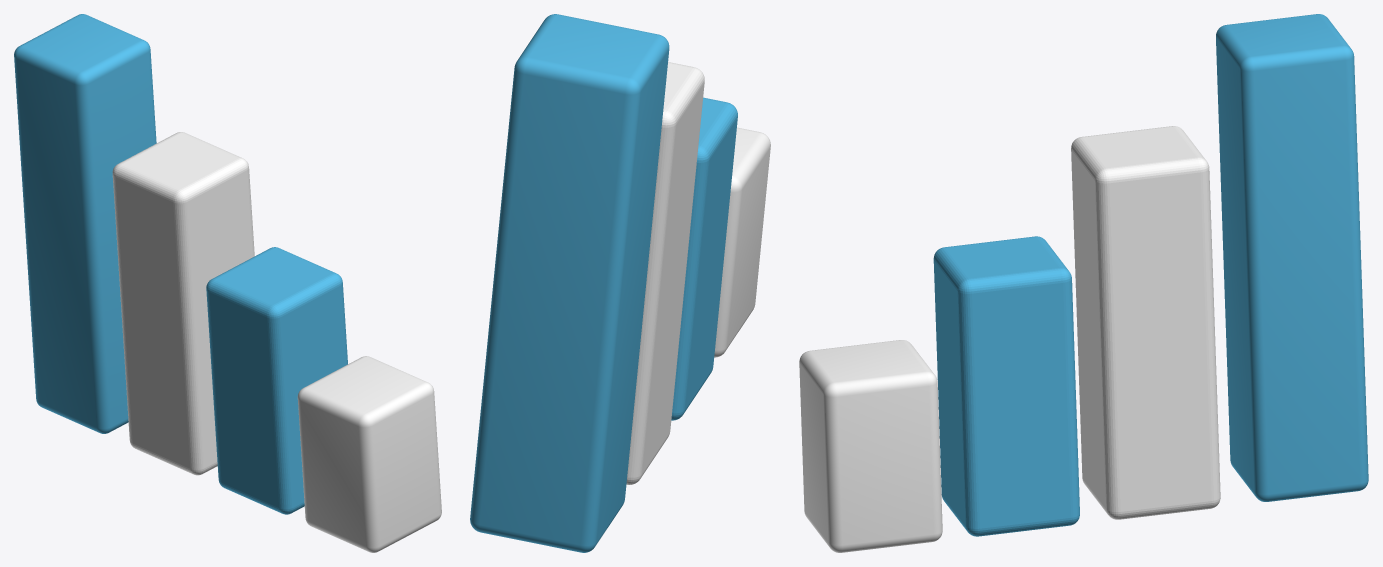
The model's file is big-data-en-analytics.glb.
3 views of the same model, side by side, from view 1: azimuth 30°, elevation 25°; view 2: azimuth 150°, elevation 25°; view 3: azimuth 270°, elevation 25° (orthographic). The views are drawn at different scales.
Visible parts, largest first — view 1: graph/color.001, graph/glass, graph/color, graph/glass.001; view 2: graph/color.001, graph/glass, graph/color, graph/glass.001; view 3: graph/color.001, graph/glass, graph/color, graph/glass.001.
Boxes of the visible parts, bbox=[...] form: graph/color.001: bbox=[14, 14, 156, 433]; graph/glass: bbox=[112, 132, 254, 475]; graph/color: bbox=[206, 247, 347, 514]; graph/glass.001: bbox=[297, 356, 441, 552]; graph/color.001: bbox=[470, 14, 669, 552]; graph/glass: bbox=[626, 62, 704, 484]; graph/color: bbox=[671, 97, 737, 420]; graph/glass.001: bbox=[714, 127, 770, 357]; graph/color.001: bbox=[1216, 14, 1368, 501]; graph/glass: bbox=[1071, 126, 1220, 519]; graph/color: bbox=[933, 236, 1079, 536]; graph/glass.001: bbox=[799, 340, 942, 552].
Bounding box in the file's own units: 1.13 × 1.92 × 2.24.
